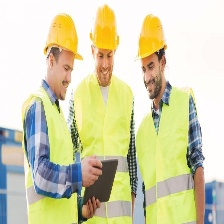helmet: (42, 12, 86, 65), (88, 1, 121, 54), (135, 14, 168, 60)
person: (135, 11, 204, 224), (80, 1, 138, 224), (21, 6, 80, 224)
vest: (139, 88, 198, 224), (81, 76, 133, 224), (25, 90, 77, 223)
